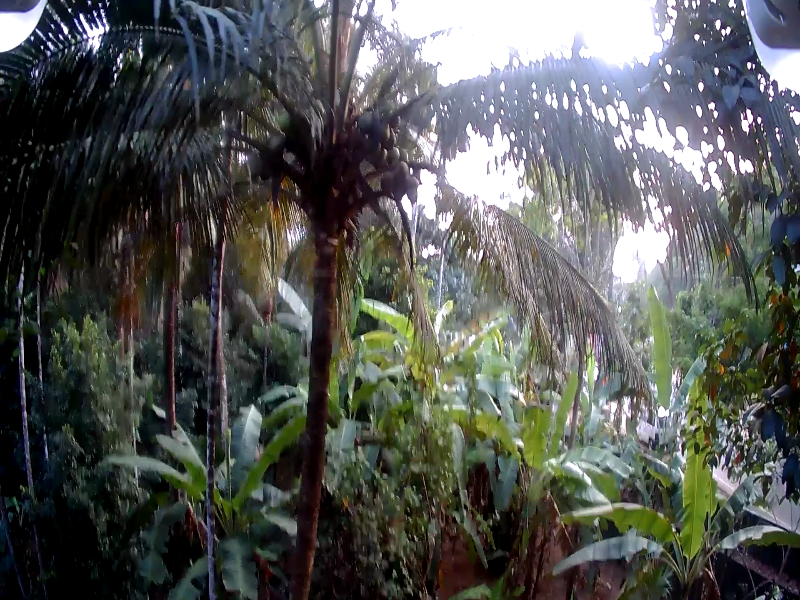coconut: (376, 120, 391, 147), (408, 177, 424, 200), (360, 108, 374, 130), (396, 161, 408, 182), (276, 113, 292, 127), (382, 176, 394, 193)
